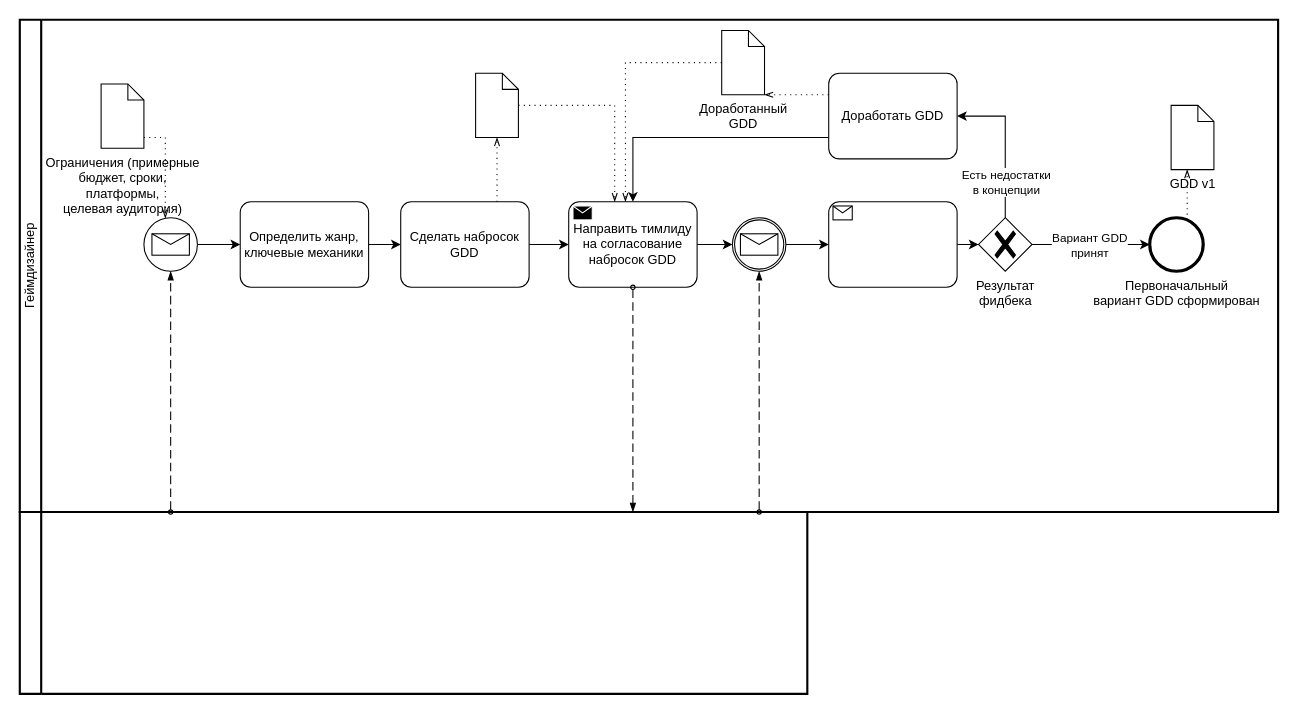
This 1297x713 diagram has some shape labels left out. The shapes that lost their labels are listed below. From the top down, each one's centre as x and y in pixels, then its label:
At pixel 496 104: "GDD Draft".
At pixel 170 244: "Пришла просьба начать работать над новой игрой".
At pixel 758 244: "Получен фидбек тимлида".
At pixel 892 244: "Рассмотреть фидбек тимлида".
At pixel 413 602: "Тимлид".
